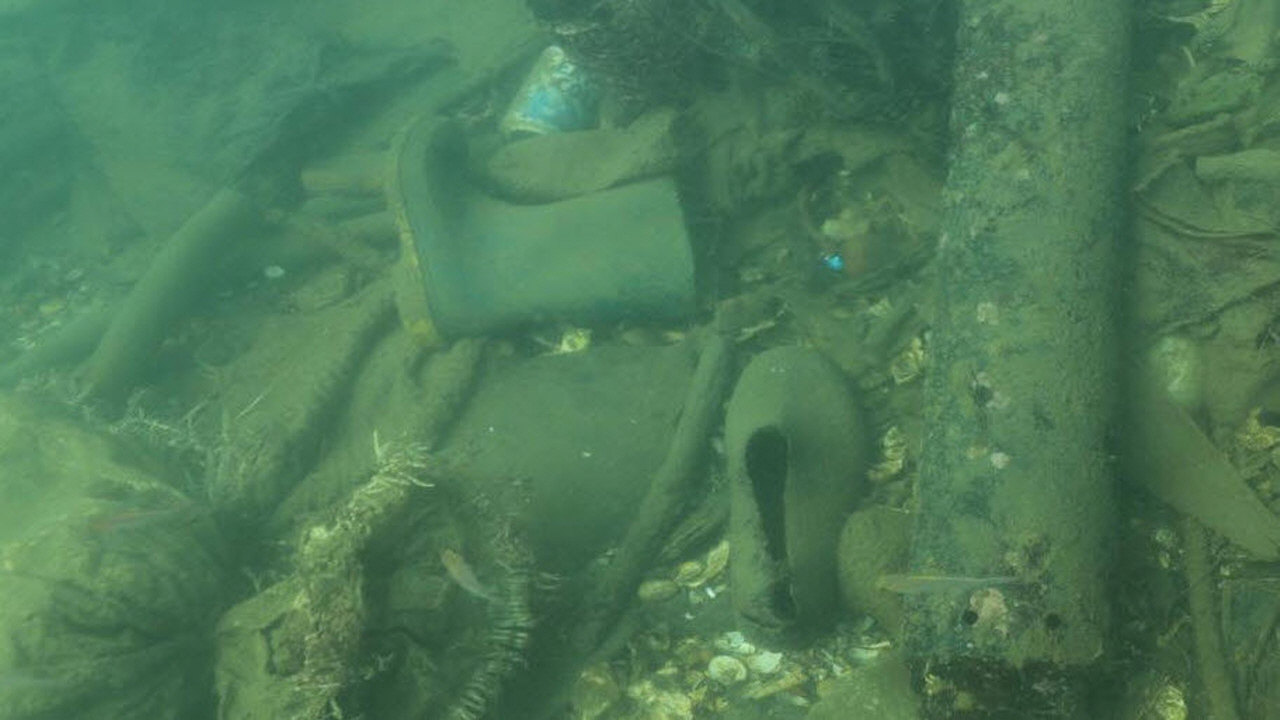eel fish trap: (900, 1, 1139, 720)
